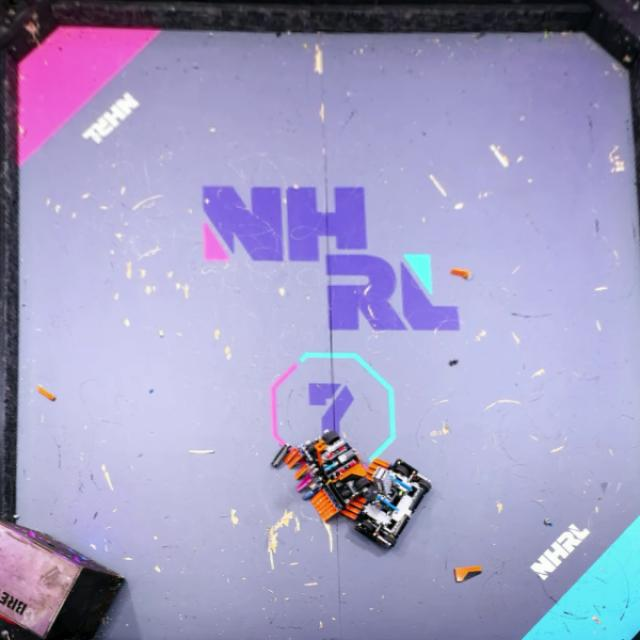housebot: (0, 517, 126, 640)
robot: (339, 457, 432, 551), (282, 430, 373, 523)
